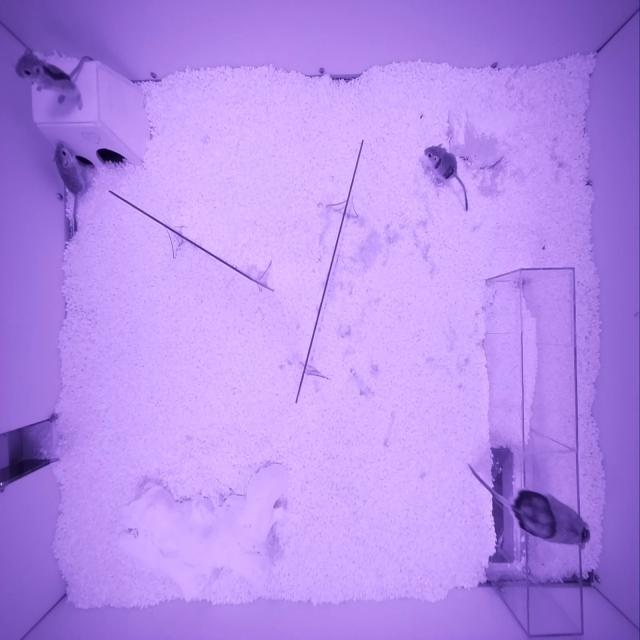adult_back: (508, 487, 590, 550)
pup_fluffy: (52, 141, 94, 194)
pup_spotted: (423, 143, 457, 181)
pup_v_stripe: (14, 47, 83, 111)
